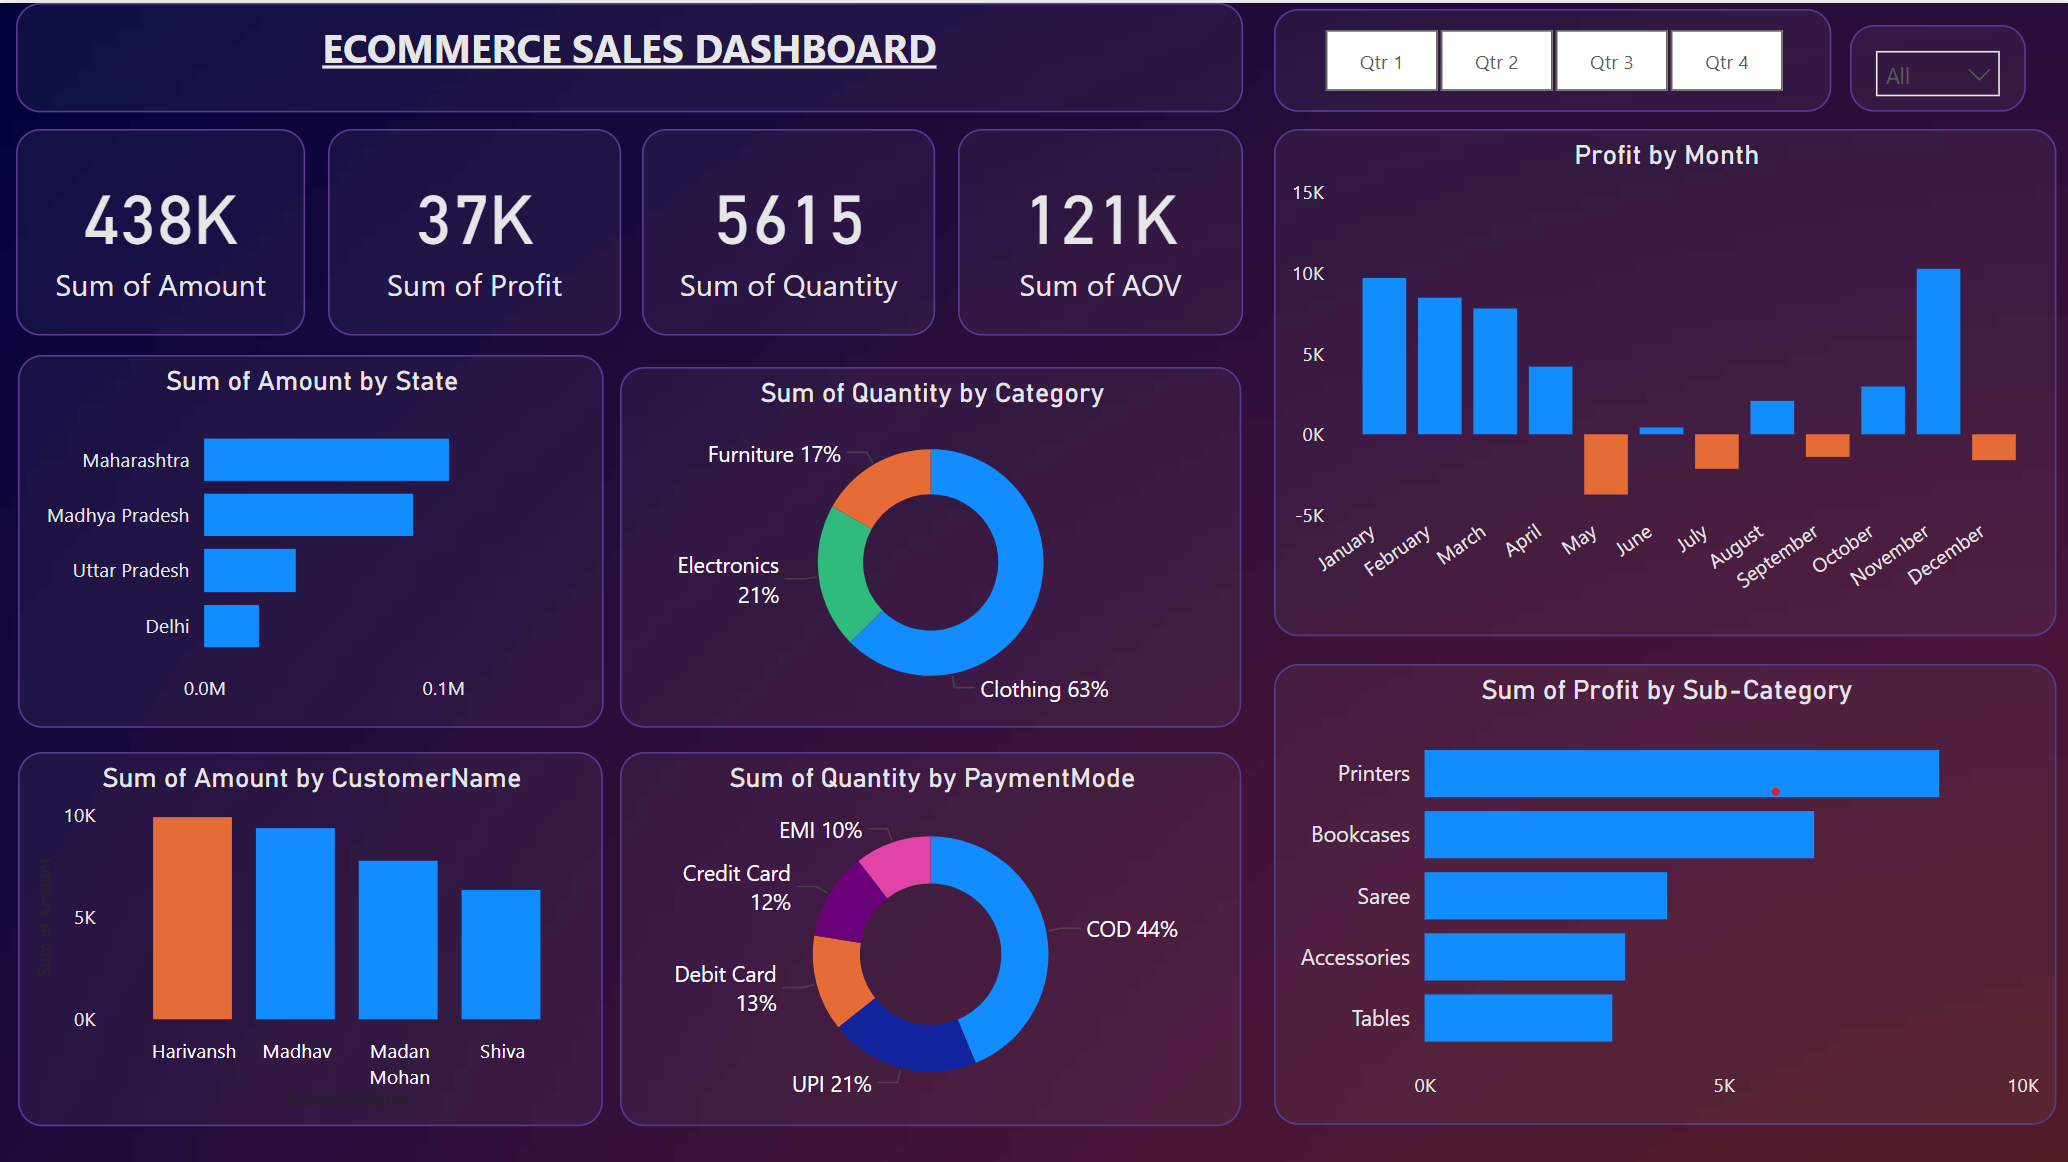

This screenshot's page, from the dashboard's own definition file:
{"tool":"powerbi","page":{"name":"Page 1","canvas":[1280,720],"ordinal":0},"visuals":[{"type":"textbox","box":[10.2,0,757.3,67.6],"z":0},{"type":"columnChart","title":"Profit by Month","fields":{"Y":["Sum(Details.Profit)"],"Category":["Orders.Order Date.Variation.Date Hierarchy.Month"]},"box":[786.6,77.8,483.2,312.4],"z":1000},{"type":"barChart","fields":{"Category":["Details.Sub-Category"],"Y":["Sum(Details.Profit)"]},"box":[786.6,408,483.2,284.3],"z":2000},{"type":"donutChart","fields":{"Category":["Details.Category"],"Y":["Sum(Details.Quantity)"]},"box":[382.5,224.4,383.7,221.8],"z":3000},{"type":"donutChart","fields":{"Category":["Details.PaymentMode"],"Y":["Sum(Details.Quantity)"]},"box":[382.5,461.5,383.7,230.8],"z":4000},{"type":"card","fields":{"Values":["Sum(Details.Amount)"]},"box":[10.2,77.8,178.5,127.5],"z":5000},{"type":"card","fields":{"Values":["Sum(Details.Quantity)"]},"box":[396.5,77.8,181,127.5],"z":6000},{"type":"card","fields":{"Values":["Sum(Details.Profit)"]},"box":[202.7,77.8,181,127.5],"z":7000},{"type":"card","fields":{"Values":["Sum(Details.AOV)"]},"box":[591.6,77.8,175.9,127.5],"z":8000},{"type":"barChart","fields":{"Y":["Sum(Details.Amount)"],"Category":["Orders.State"]},"box":[10.7,217.4,361.3,229.7],"z":9000},{"type":"columnChart","fields":{"Category":["Orders.CustomerName"],"Y":["Sum(Details.Amount)"]},"box":[11,462,361,231],"z":10000},{"type":"slicer","fields":{"Values":["Orders.Order Date.Variation.Date Hierarchy.Quarter"]},"box":[786.6,3.8,344.2,63.7],"z":11000},{"type":"slicer","fields":{"Values":["Orders.State"]},"box":[1142.3,14,108.4,53.5],"z":12000}]}

Visuals, with their boxes in screenshot pixels (x1, y1, x2, y2), scaled from the page's 1280x720 canvas onto the 2068x1162 screenshot:
textbox: 16:0:1240:109
"Profit by Month" columnChart: 1271:126:2052:630
barChart - Details.Sub-Category x Sum(Details.Profit): 1271:658:2052:1117
donutChart - Details.Category x Sum(Details.Quantity): 618:362:1238:720
donutChart - Details.PaymentMode x Sum(Details.Quantity): 618:745:1238:1117
card - Sum(Details.Amount): 16:126:305:331
card - Sum(Details.Quantity): 641:126:933:331
card - Sum(Details.Profit): 327:126:620:331
card - Sum(Details.AOV): 956:126:1240:331
barChart - Sum(Details.Amount) x Orders.State: 17:351:601:722
columnChart - Orders.CustomerName x Sum(Details.Amount): 18:746:601:1118
slicer - Orders.Order Date.Variation.Date Hierarchy.Quarter: 1271:6:1827:109
slicer - Orders.State: 1846:23:2021:109
